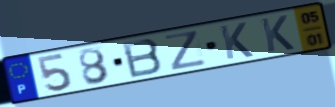5: (35, 51, 73, 93)
8: (77, 47, 111, 86)
B: (120, 37, 165, 80)
K: (218, 21, 256, 62), (259, 14, 297, 54)
Z: (163, 29, 210, 72)
